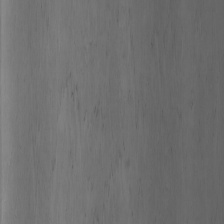silk_spot: (49, 20, 200, 214)
